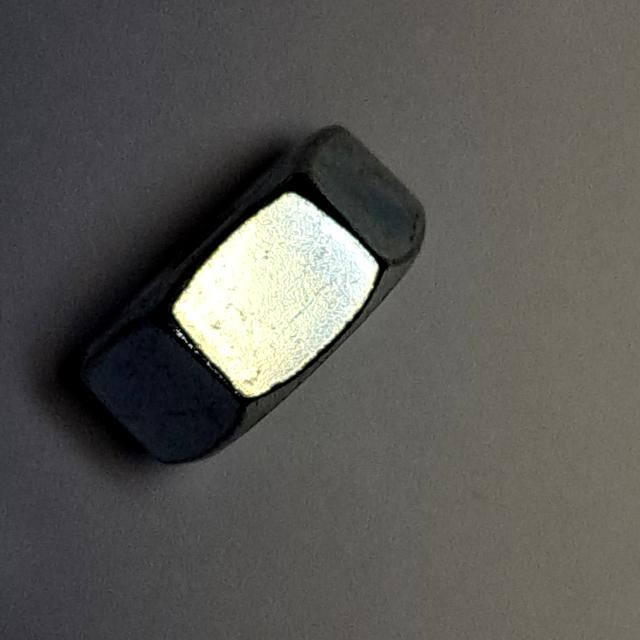Side_Excellent: (55, 105, 449, 477)
